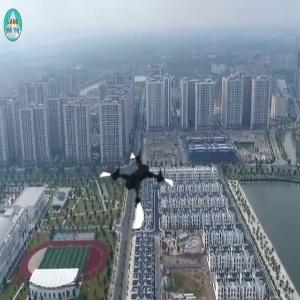drone: (94, 149, 178, 233)
